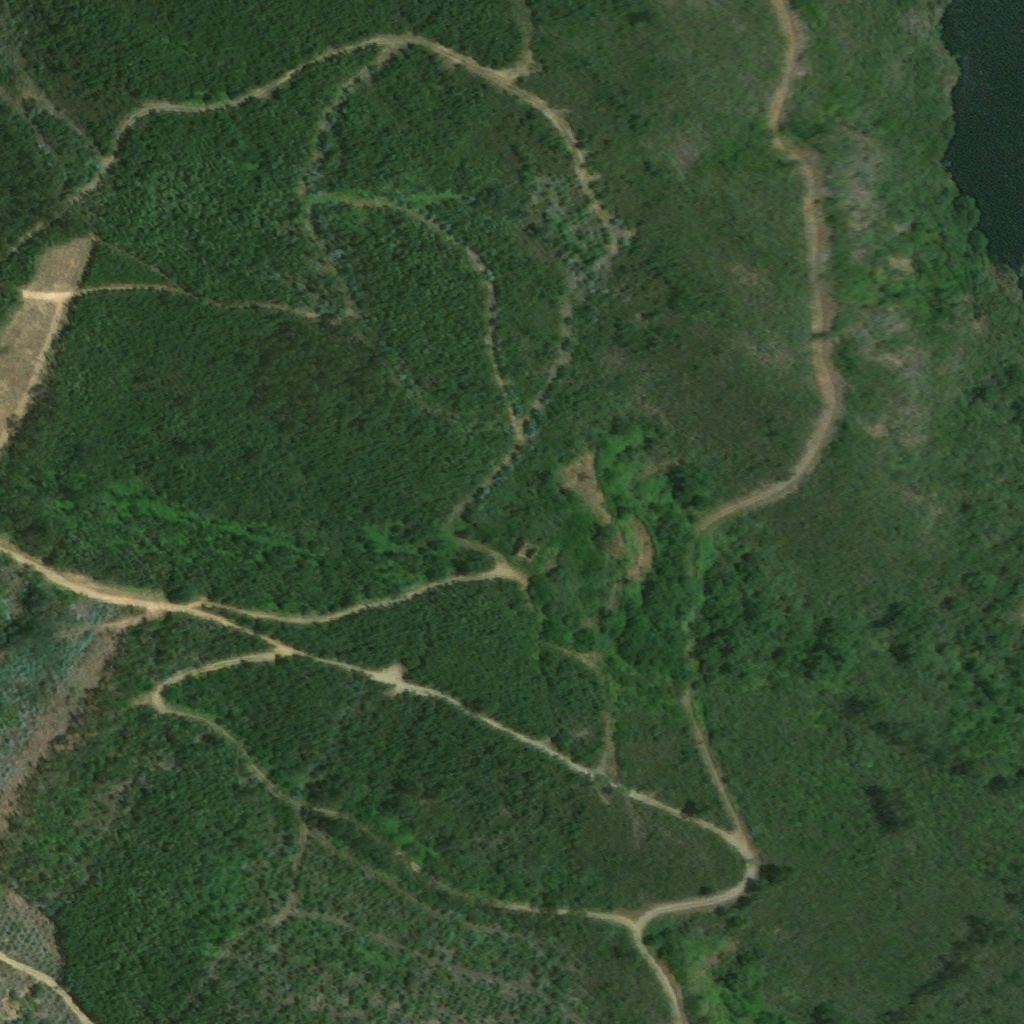0 no-damage: (514, 540, 542, 565)
